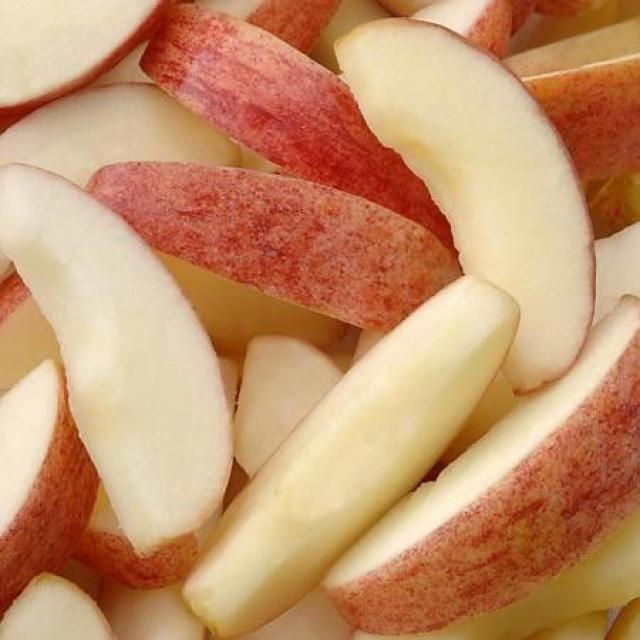apple: (184, 276, 519, 637), (325, 296, 639, 634), (338, 19, 594, 392), (0, 165, 231, 553), (141, 5, 450, 244), (87, 163, 459, 331), (394, 510, 639, 639), (0, 360, 98, 617), (0, 83, 240, 186), (0, 0, 172, 116), (160, 254, 345, 352), (161, 255, 344, 351), (234, 336, 342, 476), (522, 52, 639, 180), (74, 488, 199, 588), (380, 0, 537, 55), (504, 16, 639, 76), (0, 574, 116, 639), (198, 0, 339, 52), (0, 274, 61, 389), (441, 373, 517, 463), (99, 582, 204, 639), (511, 0, 618, 54), (237, 589, 351, 639), (311, 0, 389, 73), (412, 0, 511, 56), (595, 222, 639, 321), (586, 173, 639, 238), (93, 43, 149, 86), (528, 611, 607, 639), (57, 558, 102, 600), (608, 598, 639, 639), (220, 357, 240, 416), (537, 0, 603, 15), (353, 330, 383, 362), (377, 0, 432, 17), (511, 0, 537, 32), (618, 0, 638, 19)
